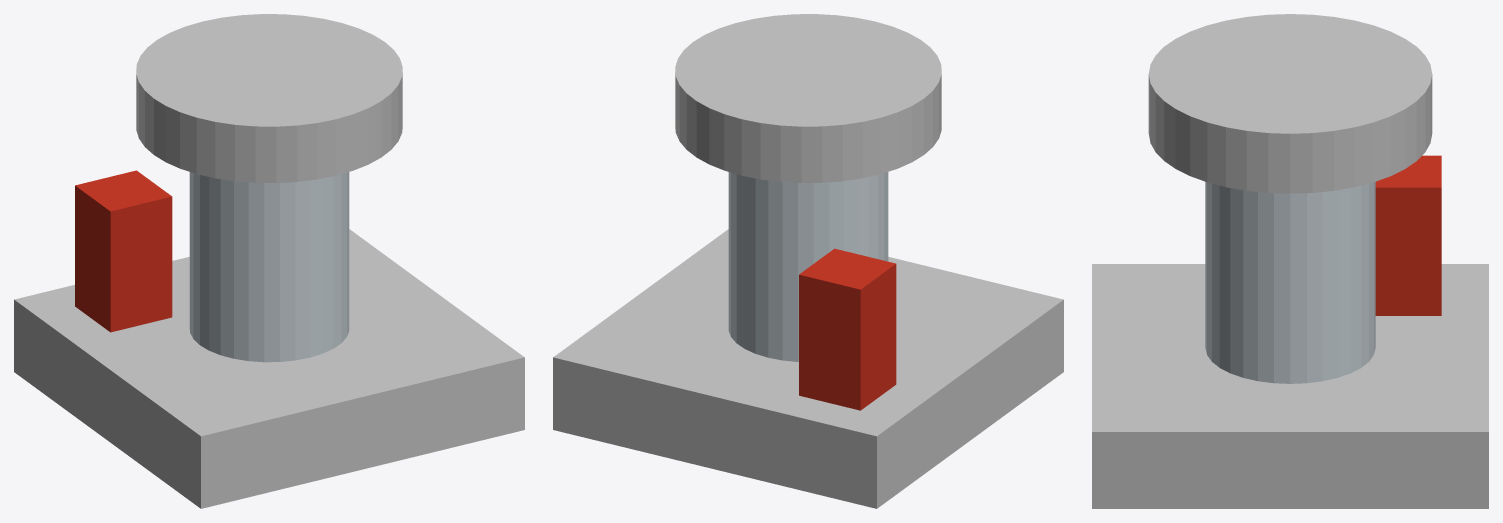
File: radar.obj
3 renders of one model, left to right at view 1: azimuth 30°, elevation 25°; view 2: azimuth 150°, elevation 25°; view 3: azimuth 270°, elevation 25°, orthographic. The views are drawn at different scales.
Parts seen in each view (by area): view 1: radar; view 2: radar; view 3: radar.
Boxes of the visible parts, x1,y1,x2,y2 form: radar: [14, 14, 524, 508]; radar: [553, 14, 1063, 508]; radar: [1092, 14, 1488, 508].
Bounding box in the file's own units: 0.84 × 0.82 × 0.84.
